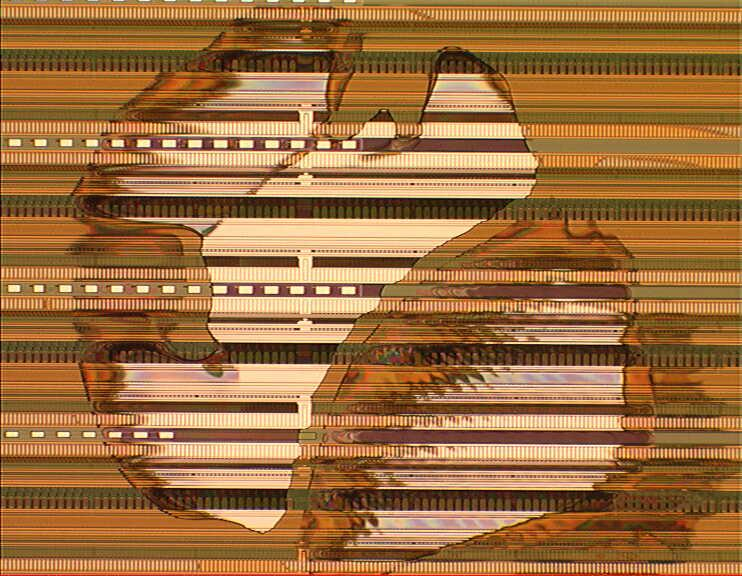COATING BAD: (65, 1, 742, 576)
